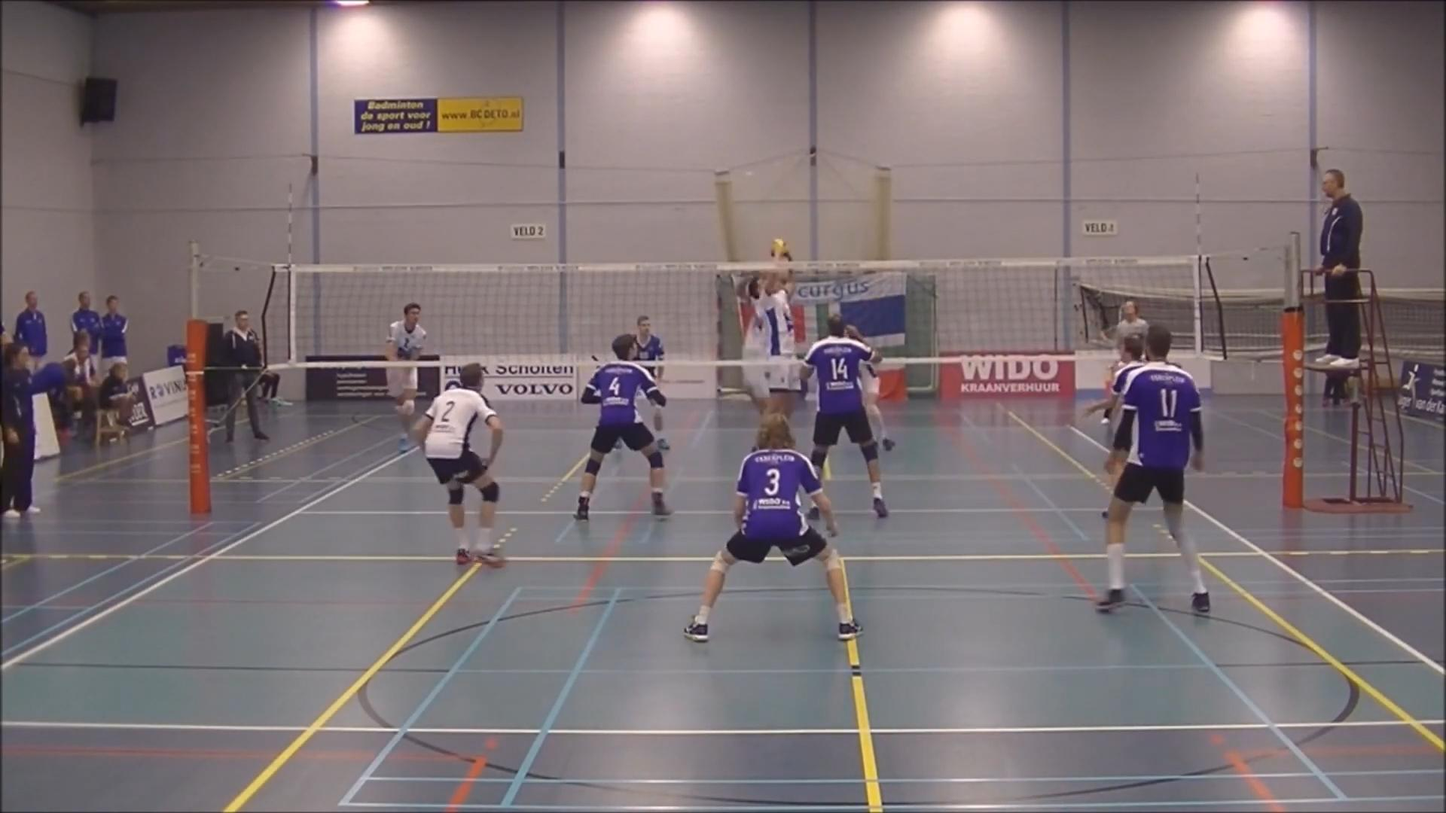Player: (685, 413, 859, 641), (1097, 325, 1210, 612), (413, 364, 504, 566), (575, 333, 671, 520), (802, 314, 888, 517), (1083, 336, 1143, 427), (861, 361, 895, 450), (387, 366, 417, 451), (1102, 300, 1148, 351), (636, 316, 664, 382)
Set: (733, 238, 807, 435)
ball: (768, 233, 794, 266)
